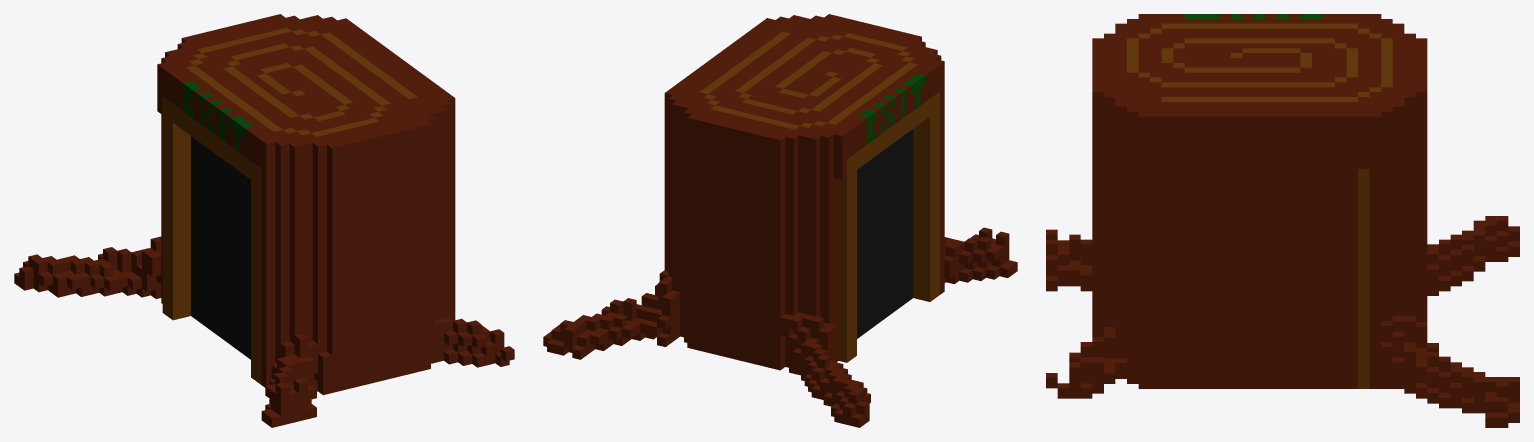
File: Exit_Portal.obj
The picture shows the model from 3 angles, left to right: view 1: azimuth 30°, elevation 25°; view 2: azimuth 150°, elevation 25°; view 3: azimuth 270°, elevation 25°; orthographic projection. The views are drawn at different scales.
Size of the model in its own units: 3.8 by 2.6 by 4.1.
Materials: 1 (1 with a texture image).
